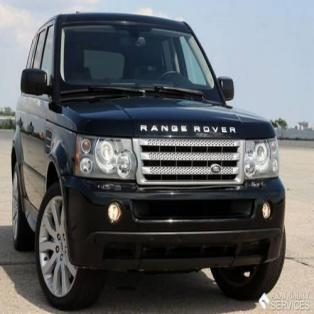Auto: (10, 11, 286, 308)
